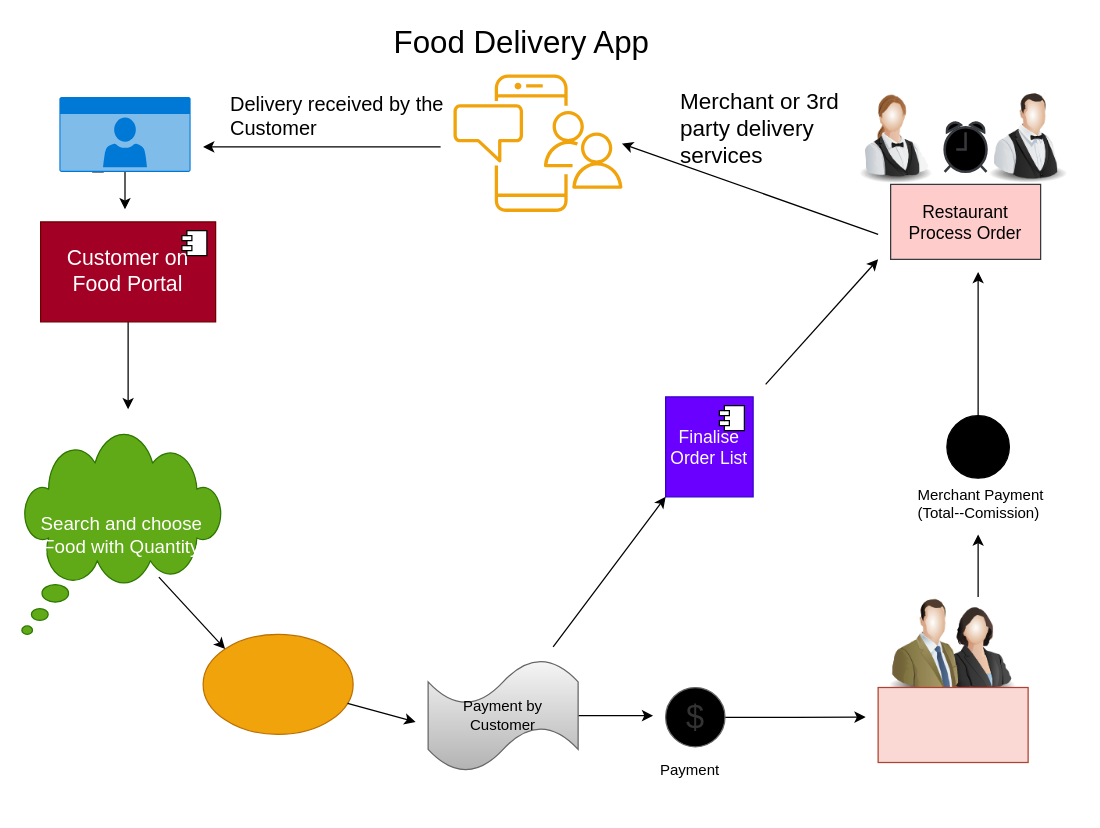
Some shapes in this 1100 by 828 pixel diagram are drawn without their labels. The centre of each missing label's shape, as x and y in pixels:
"Finalised Order" goes at (277,683).
"Online Store Owner" goes at (952,724).
"User" goes at (124,133).
